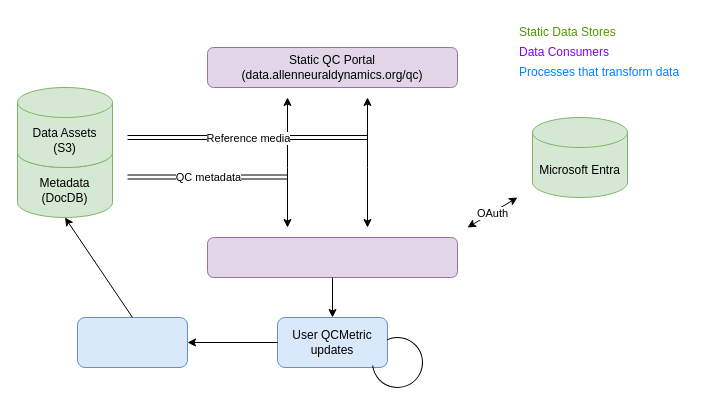
Image size: 715x416. Some labels were removed from this diagram. Here are the shapes that lost their labels. From the top down, the centre of each, then its label:
At (x=332, y=257): "Editable QC Portal (qc.allenneuraldynamics.org/view)".
At (x=132, y=342): "User review submission".
